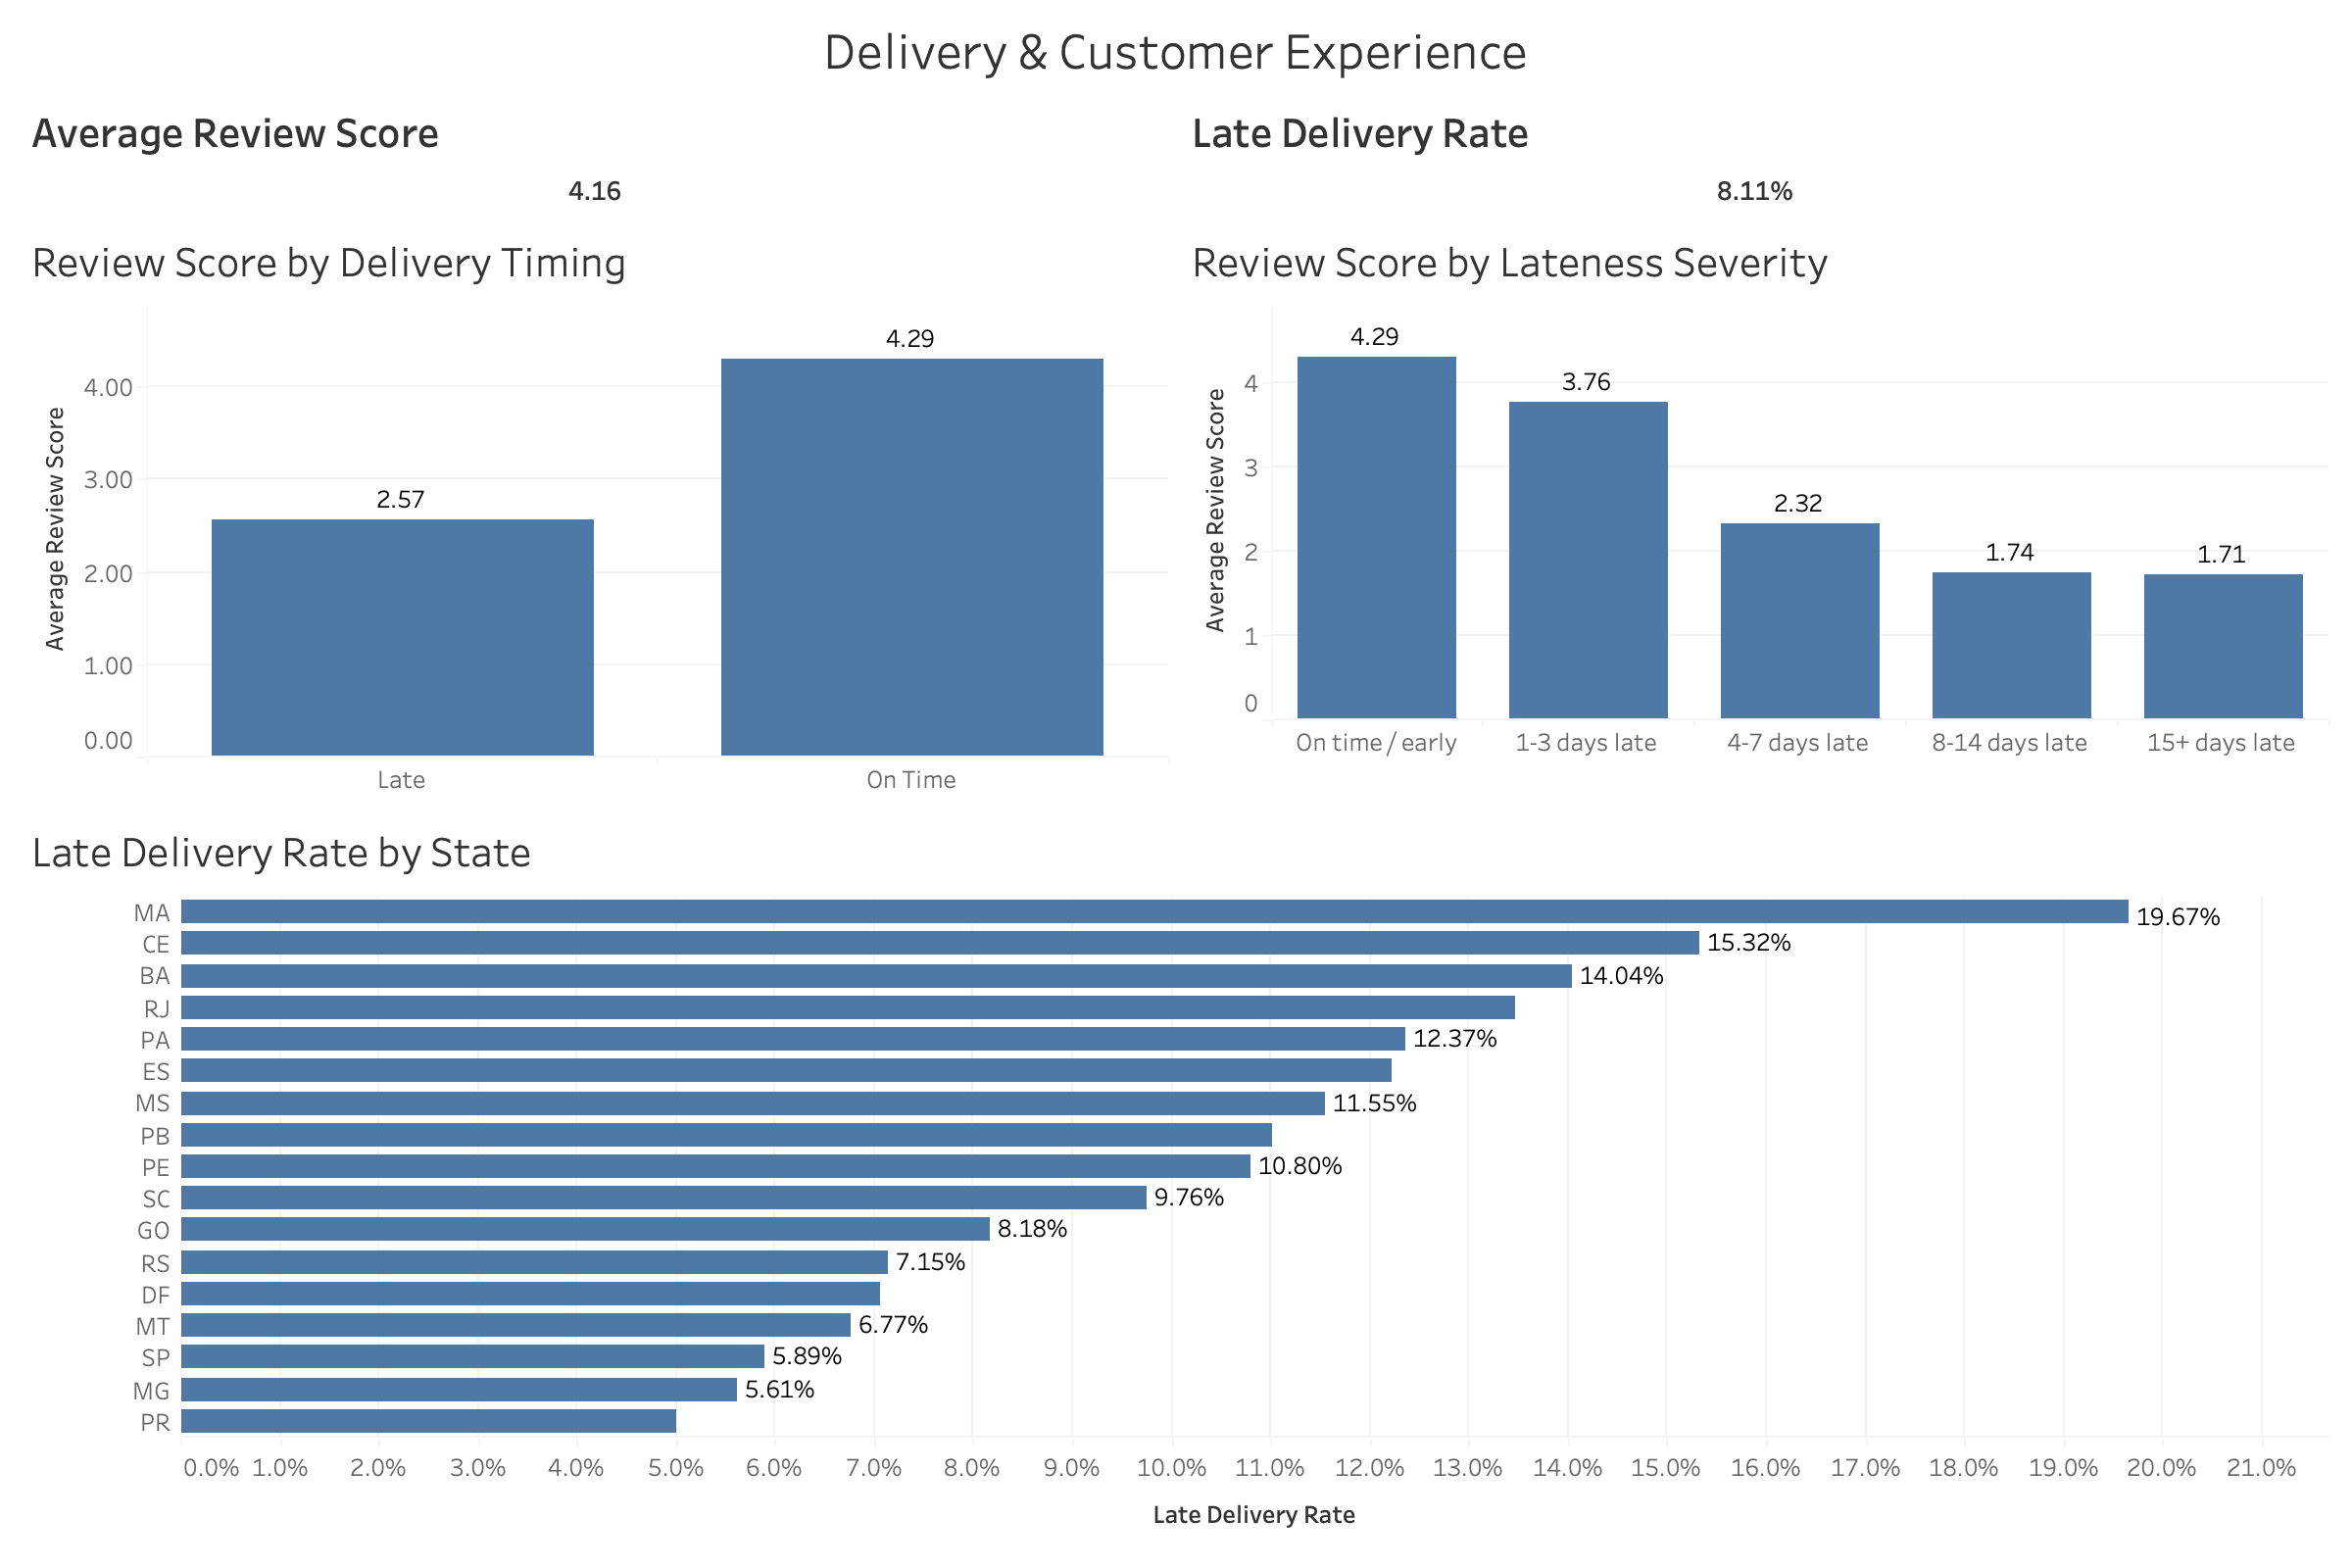

What the dashboard file says about the page in this screenshot:
{"tool":"tableau","page":{"name":"Delivery & Customer Experience","canvas":[1200,800],"ordinal":1},"visuals":[{"type":"title","box":[8,8,1184,35]},{"type":"worksheet","title":"KPI - Average Review Score","mark":"Automatic","box":[8,43,592,65.6]},{"type":"worksheet","title":"KPI - Late Delivery Rate","mark":"Automatic","box":[600,43,592,65.6]},{"type":"worksheet","title":"Review Score by Delivery Timing","mark":"Automatic","rows":["average_review_score"],"cols":["Calculation_0177003481866242"],"box":[8,108.6,592,301.8]},{"type":"worksheet","title":"Review Score by Lateness Severity","mark":"Automatic","rows":["average_review_score"],"cols":["Calculation_0177003484229635"],"box":[600,108.6,592,301.8]},{"type":"worksheet","title":"Late Delivery Rate by State","mark":"Automatic","rows":["customer_state (fact_orders.csv)"],"cols":["Calculation_1422406546817024"],"box":[8,410.4,1184,381.6]}]}

Visuals, with their boxes in screenshot pixels (x1, y1, x2, y2), scaled from the page's 1200x800 canvas onto the 2352x1568 screenshot:
title: Rect(16, 16, 2336, 84)
"KPI - Average Review Score" worksheet: Rect(16, 84, 1176, 213)
"KPI - Late Delivery Rate" worksheet: Rect(1176, 84, 2336, 213)
"Review Score by Delivery Timing" worksheet: Rect(16, 213, 1176, 805)
"Review Score by Lateness Severity" worksheet: Rect(1176, 213, 2336, 805)
"Late Delivery Rate by State" worksheet: Rect(16, 805, 2336, 1552)
